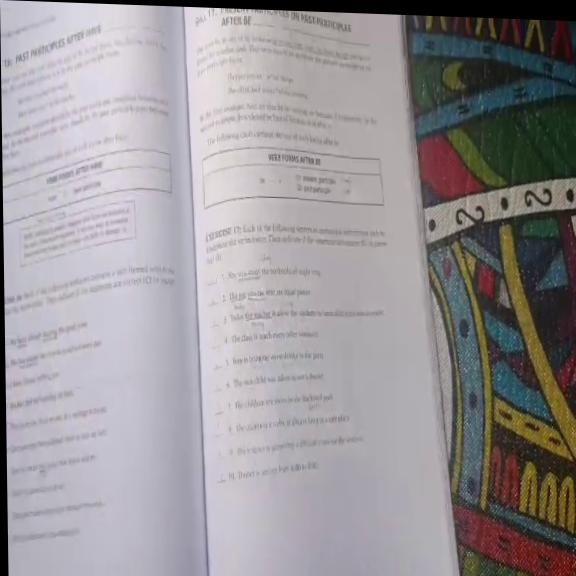Kertas: (1, 0, 413, 576)
